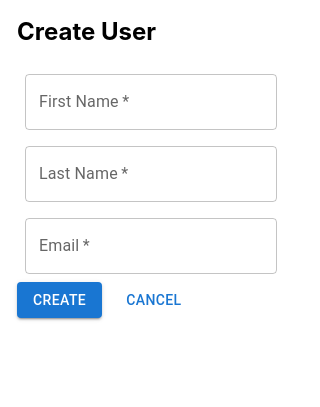
Test: UserForm Component › handles input changes and form submission for creating a user
The image size is (320, 407).
Type "John" into the field labelled "First Name *".
click(151, 102); type("John")  # box [25,74,277,130]
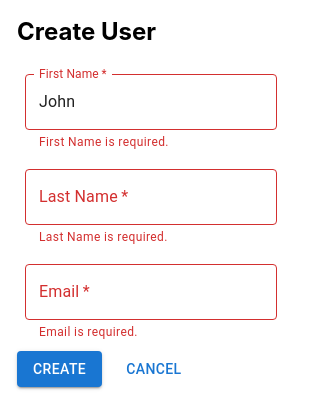
Type "Doe" into the field labelled "Last Name *".
click(151, 197); type("Doe")  # box [25,169,277,225]
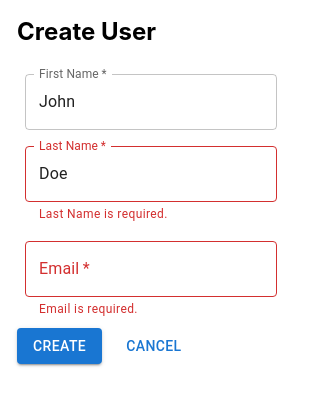
Type "john@gmail.com" into the field labelled "Email *".
click(151, 269); type("john@gmail.com")  # box [25,241,277,297]
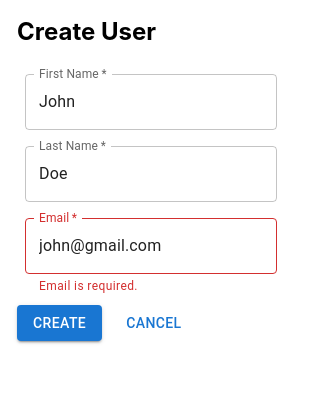
Submit the form with test id "userForm"
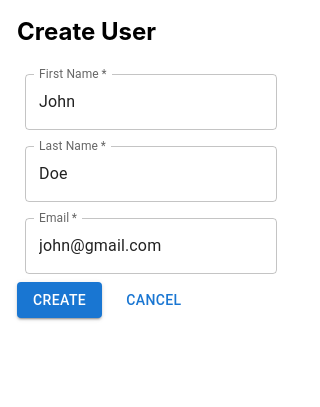
Result: the text "Email is required." is gone
